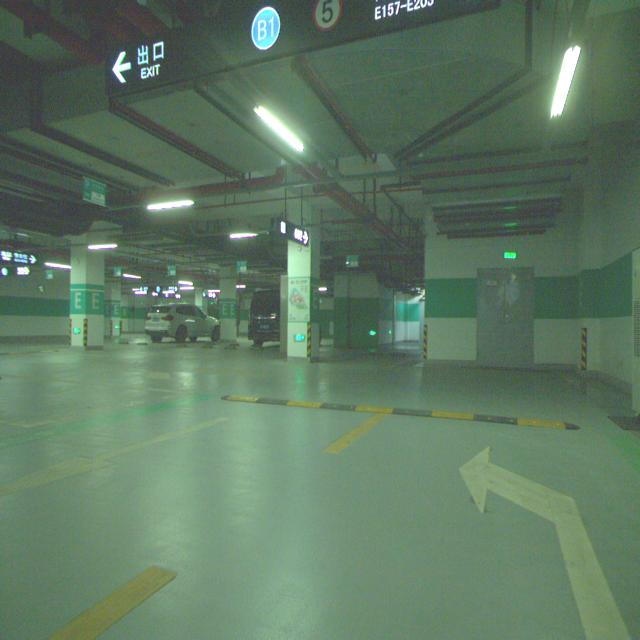pillar: (286, 223, 320, 359), (70, 234, 105, 347), (219, 266, 238, 342), (104, 278, 121, 338)
